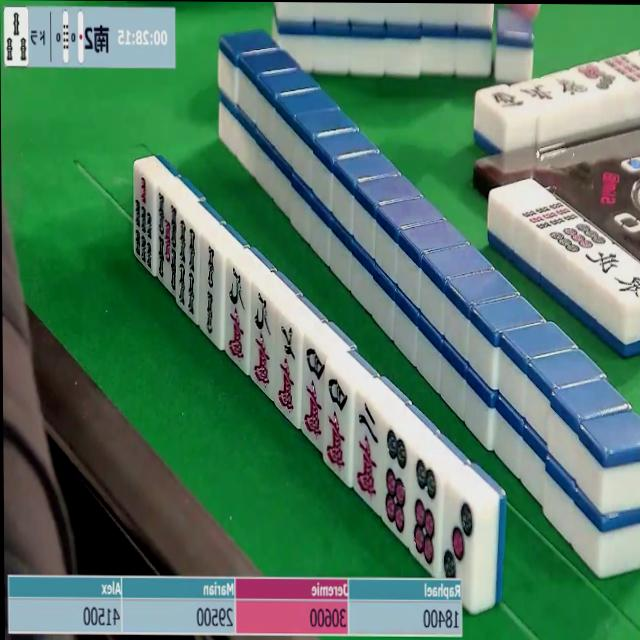m2: (354, 399, 384, 506)
m4: (320, 373, 354, 480), (298, 342, 327, 444)
m7: (271, 318, 301, 417)
m9: (250, 287, 279, 395), (224, 265, 251, 364)
s2: (199, 234, 226, 346)
s4: (176, 215, 200, 323)
s5: (153, 193, 179, 292)
s7: (132, 170, 154, 275)
t3: (439, 489, 476, 581)
t6: (410, 456, 441, 564), (383, 425, 411, 538)
